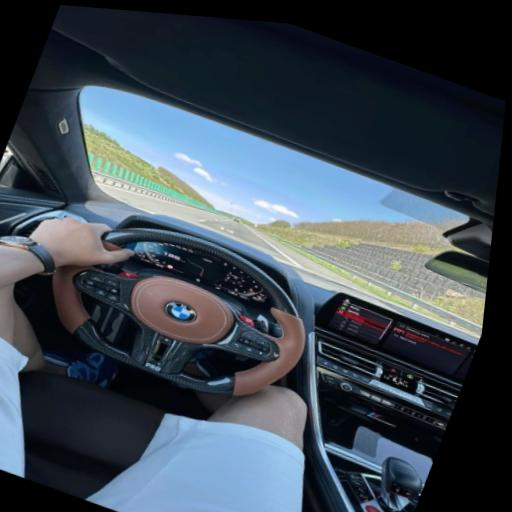Hands-on-the-Wheel: (0, 178, 208, 319)
